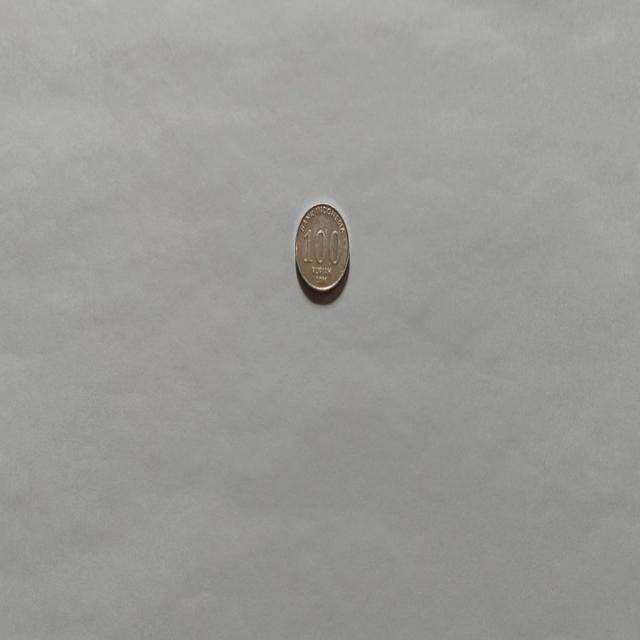seratus rupiah: (294, 200, 349, 294)
